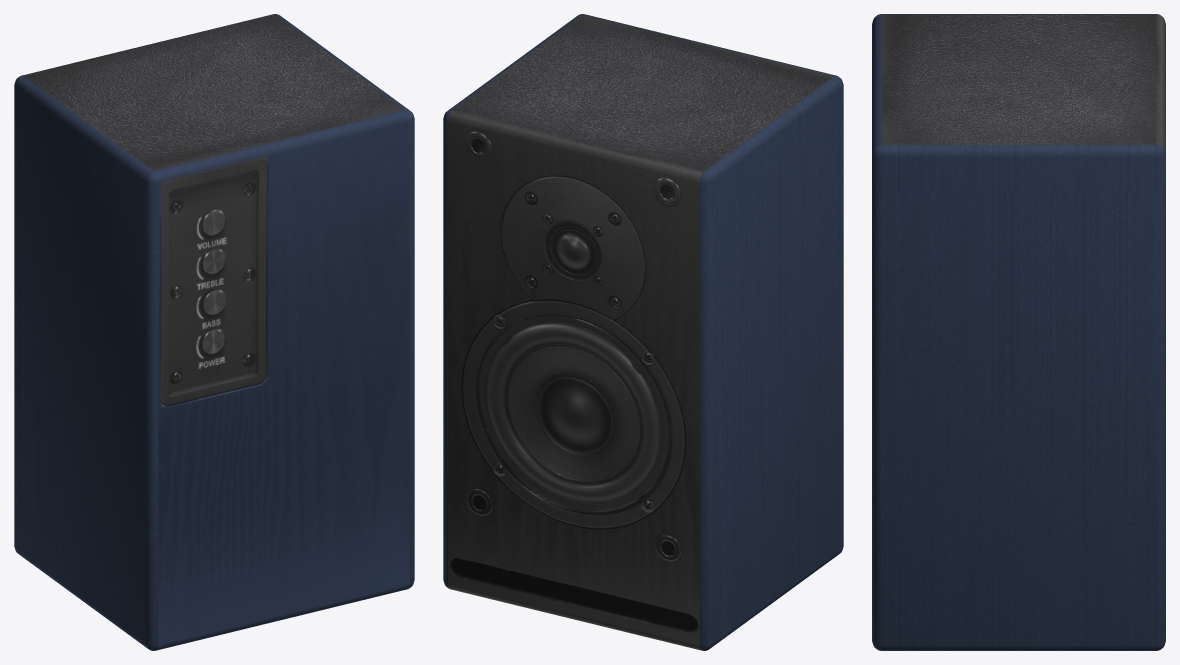
Rendered from Loudspeaker02a.FBX.
3 views of the same model, side by side, from view 1: azimuth 30°, elevation 25°; view 2: azimuth 150°, elevation 25°; view 3: azimuth 270°, elevation 25° (orthographic). The views are drawn at different scales.
Parts seen in each view (by area): view 1: Loudspeaker02a; view 2: Loudspeaker02a; view 3: Loudspeaker02a.
Part boxes in pixels (left/top/right/bottom): Loudspeaker02a: left=14, top=14, right=414, bottom=650; Loudspeaker02a: left=443, top=14, right=843, bottom=650; Loudspeaker02a: left=872, top=14, right=1165, bottom=650.
Bounding box in the file's own units: 19.69 × 33.64 × 17.72.
